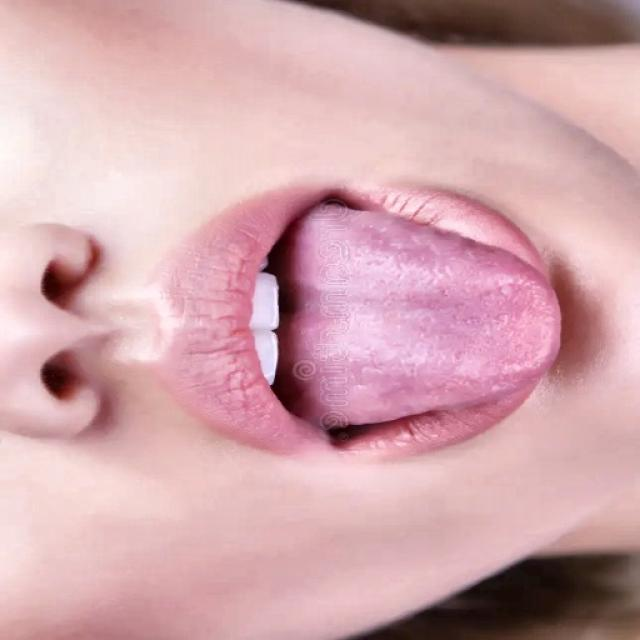processing_area: (288, 190, 559, 438)
